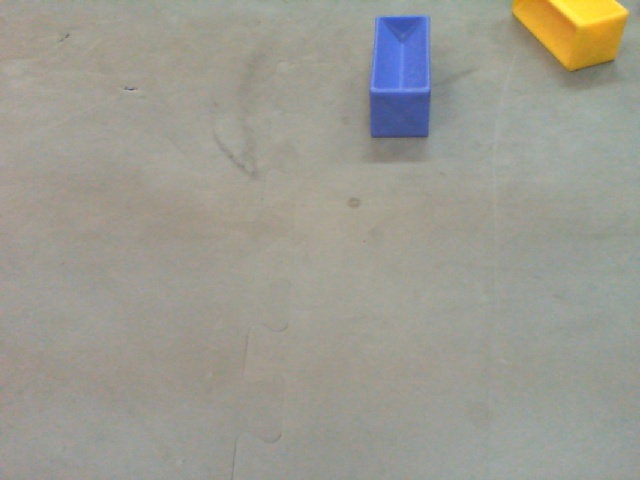BlueSample: (367, 14, 432, 139)
YellowSample: (511, 1, 631, 74)
